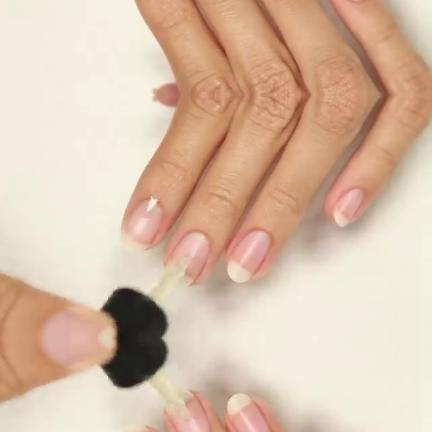Nail: (164, 231, 210, 286), (227, 229, 272, 282), (120, 198, 163, 252), (164, 388, 210, 432), (227, 392, 272, 432), (333, 187, 363, 227), (121, 422, 152, 432)
